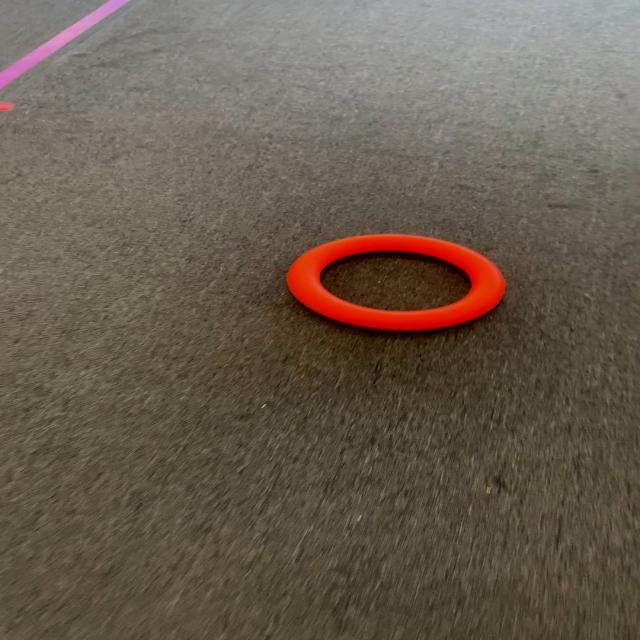notes: (289, 232, 505, 334)
